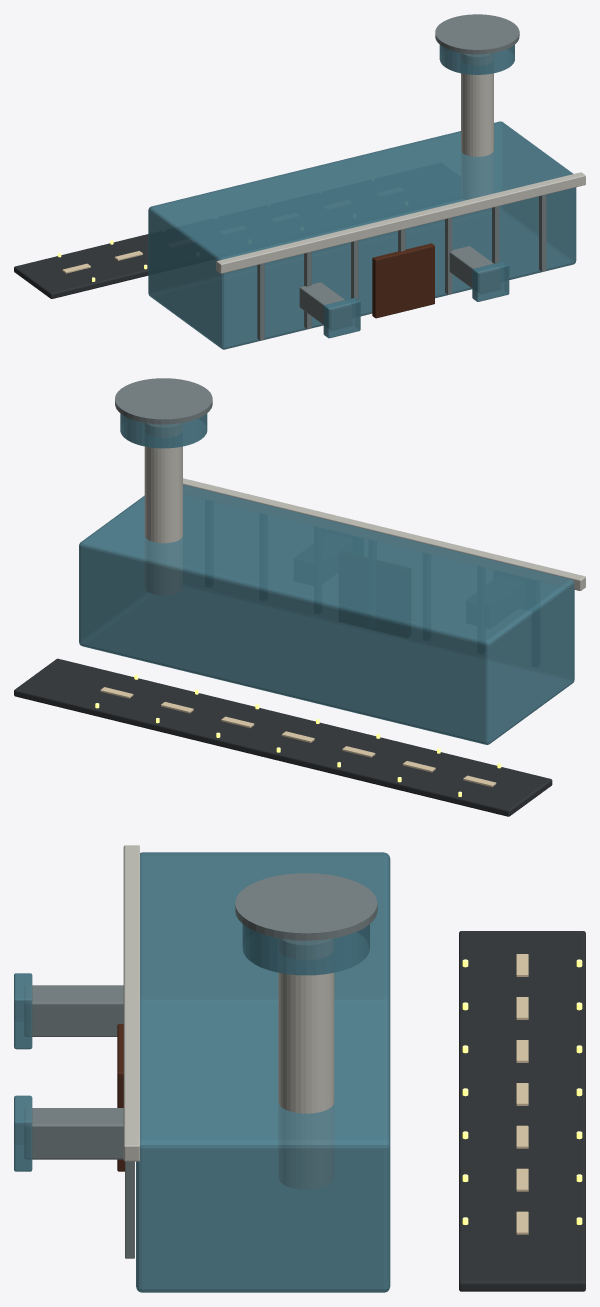
Rendered from paris-airport.glb.
The picture shows the model from 3 angles, top to bottom: view 1: azimuth 30°, elevation 25°; view 2: azimuth 150°, elevation 25°; view 3: azimuth 270°, elevation 25°; orthographic projection. The views are drawn at different scales.
Visible parts, largest first — view 1: Optimized Paris landmark; view 2: Optimized Paris landmark; view 3: Optimized Paris landmark.
Part boxes in pixels (bbox=[...]): Optimized Paris landmark: bbox=[14, 14, 585, 349]; Optimized Paris landmark: bbox=[14, 378, 585, 816]; Optimized Paris landmark: bbox=[14, 845, 585, 1292].
Bounding box in the file's own units: 16.7 × 7.61 × 11.25.
